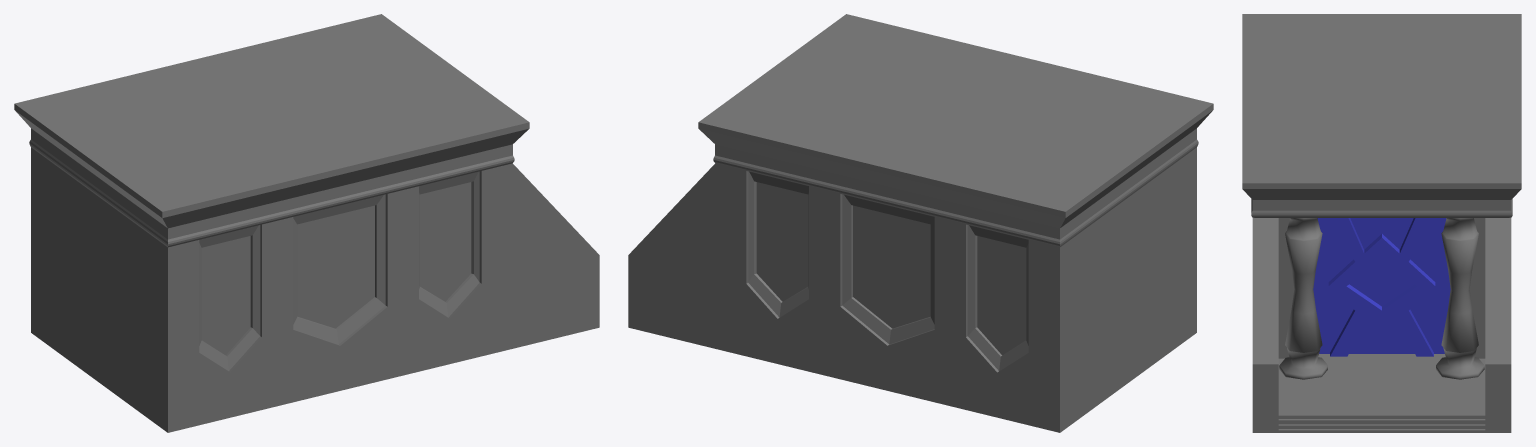
File: HerosTombEntrance.fbx
The picture shows the model from 3 angles, left to right: view 1: azimuth 30°, elevation 25°; view 2: azimuth 150°, elevation 25°; view 3: azimuth 270°, elevation 25°; orthographic projection. The views are drawn at different scales.
Visible parts, largest first — view 1: Cube; view 2: Cube; view 3: Cube, Cube.001.
Boxes of the visible parts, x1,y1,x2,y2 form: Cube: [14, 14, 599, 432]; Cube: [628, 14, 1213, 432]; Cube: [1242, 14, 1521, 432]; Cube.001: [1313, 218, 1450, 356].
Size of the model in its own units: 2771 by 1362 by 1604.
